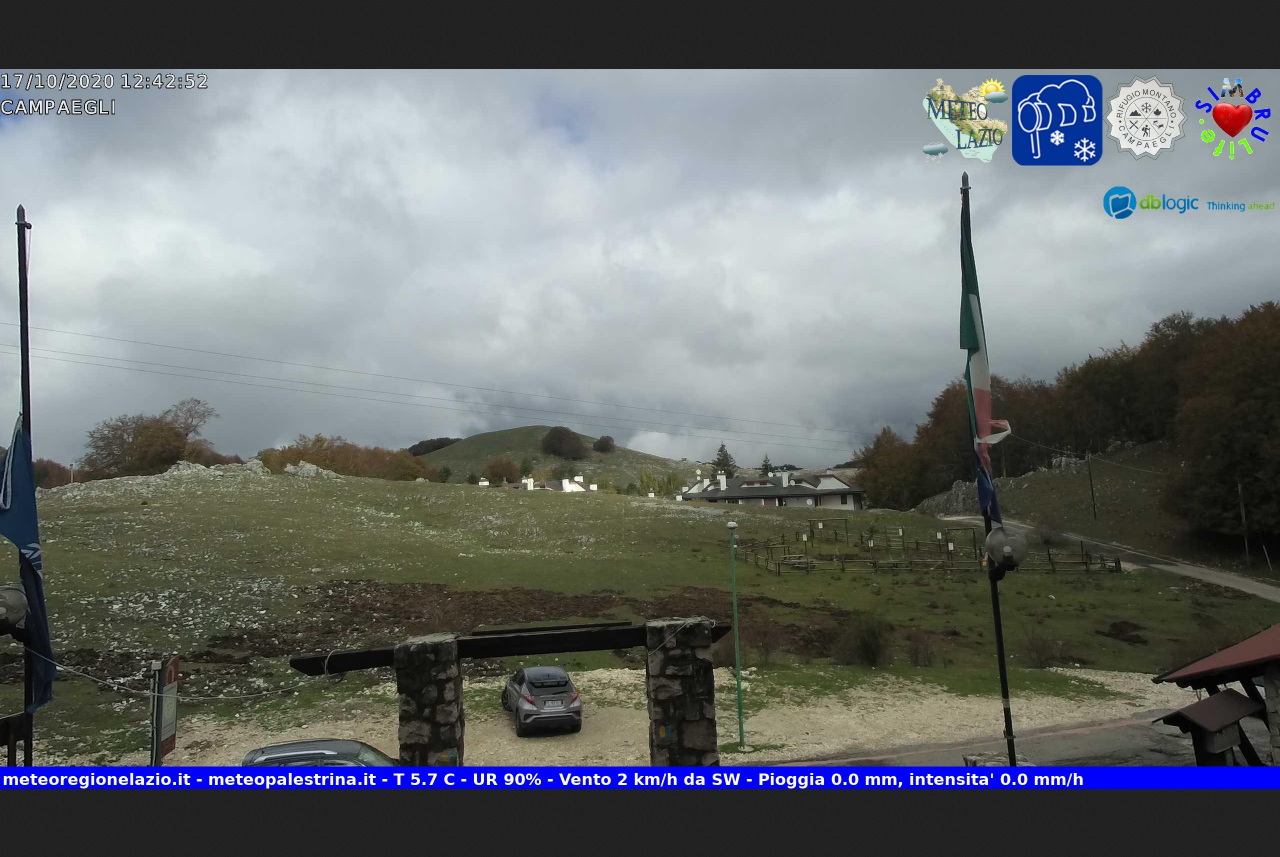no: (948, 169, 1012, 482), (1, 408, 63, 709), (972, 458, 1015, 579)
